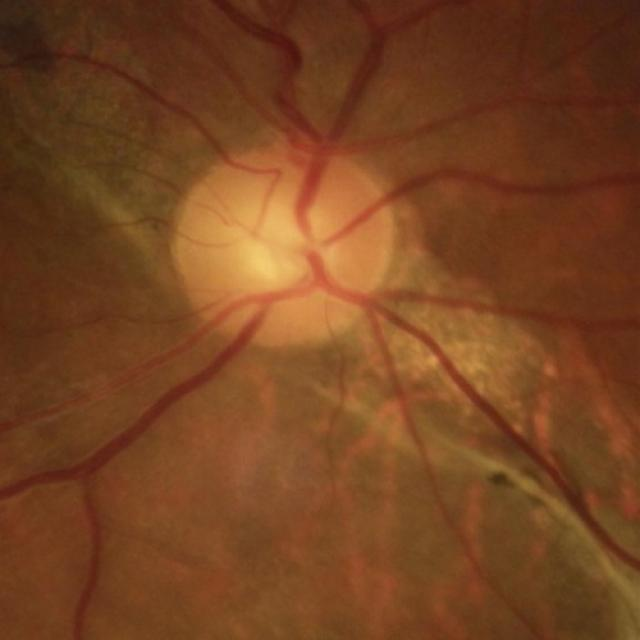OC: (246, 205, 336, 286)
OD: (176, 153, 392, 350)
